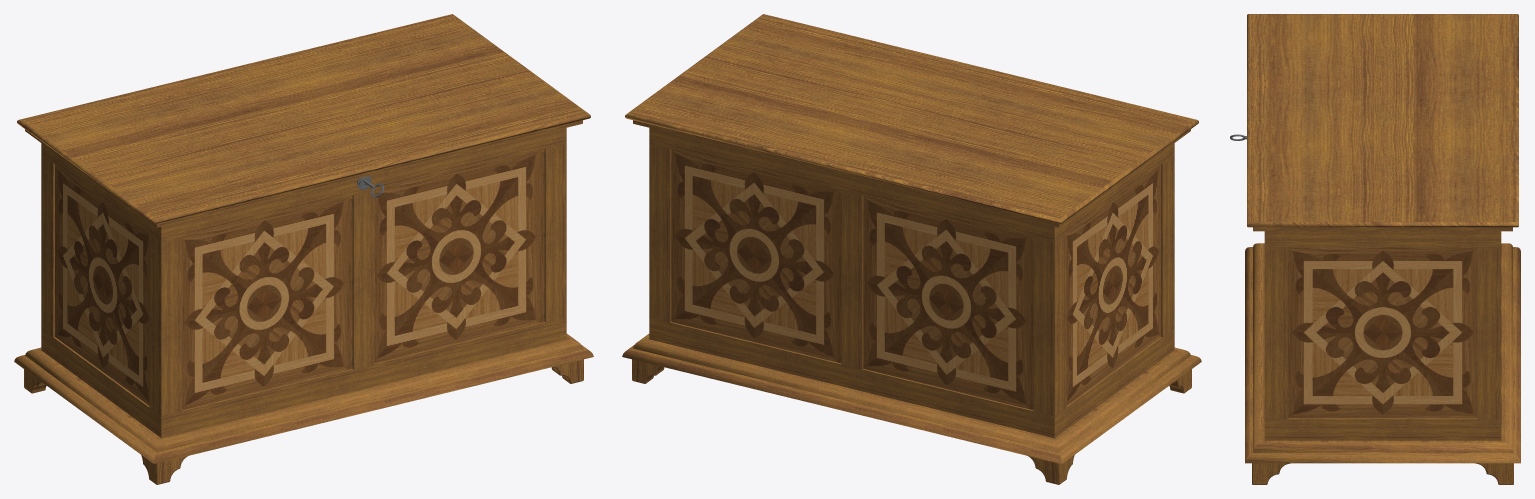
The model's file is chest-by-tom---bayer-6yo90zr_4Z_.glb.
3 renders of one model, left to right at view 1: azimuth 30°, elevation 25°; view 2: azimuth 150°, elevation 25°; view 3: azimuth 270°, elevation 25°, orthographic.
Parts seen in each view (by area): view 1: Mesh7 Truhla_velk___t_lo1 Model, Mesh2 Truhla_velk___v_ko1 Model, Mesh1 Truhla_velk___podstavec1 Model, Mesh6 Truhla_velk___noha1 Model; view 2: Mesh7 Truhla_velk___t_lo1 Model, Mesh2 Truhla_velk___v_ko1 Model, Mesh1 Truhla_velk___podstavec1 Model, Mesh10 Truhla_velk___noha4 Model; view 3: Mesh2 Truhla_velk___v_ko1 Model, Mesh7 Truhla_velk___t_lo1 Model, Mesh1 Truhla_velk___podstavec1 Model, Mesh8 Truhla_velk___noha2 Model, Mesh9 Truhla_velk___noha3 Model.
Part boxes in pixels (<box>): Mesh7 Truhla_velk___t_lo1 Model: <box>41,128,566,437</box>; Mesh2 Truhla_velk___v_ko1 Model: <box>17,14,590,227</box>; Mesh1 Truhla_velk___podstavec1 Model: <box>14,334,593,463</box>; Mesh6 Truhla_velk___noha1 Model: <box>141,455,187,484</box>; Mesh7 Truhla_velk___t_lo1 Model: <box>649,128,1174,437</box>; Mesh2 Truhla_velk___v_ko1 Model: <box>625,14,1198,227</box>; Mesh1 Truhla_velk___podstavec1 Model: <box>622,334,1201,463</box>; Mesh10 Truhla_velk___noha4 Model: <box>1028,455,1074,484</box>; Mesh2 Truhla_velk___v_ko1 Model: <box>1247,14,1518,231</box>; Mesh7 Truhla_velk___t_lo1 Model: <box>1264,231,1501,440</box>; Mesh1 Truhla_velk___podstavec1 Model: <box>1245,243,1520,463</box>; Mesh8 Truhla_velk___noha2 Model: <box>1252,463,1290,484</box>; Mesh9 Truhla_velk___noha3 Model: <box>1475,463,1513,484</box>.
Bounding box in the file's own units: 88.33 × 51.47 × 51.33.
Materials: 4 (2 with a texture image).
